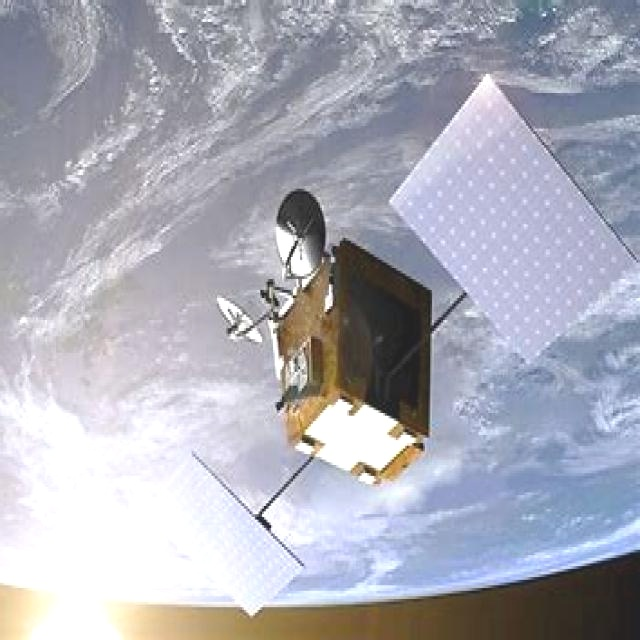satellite: (142, 67, 636, 621)
